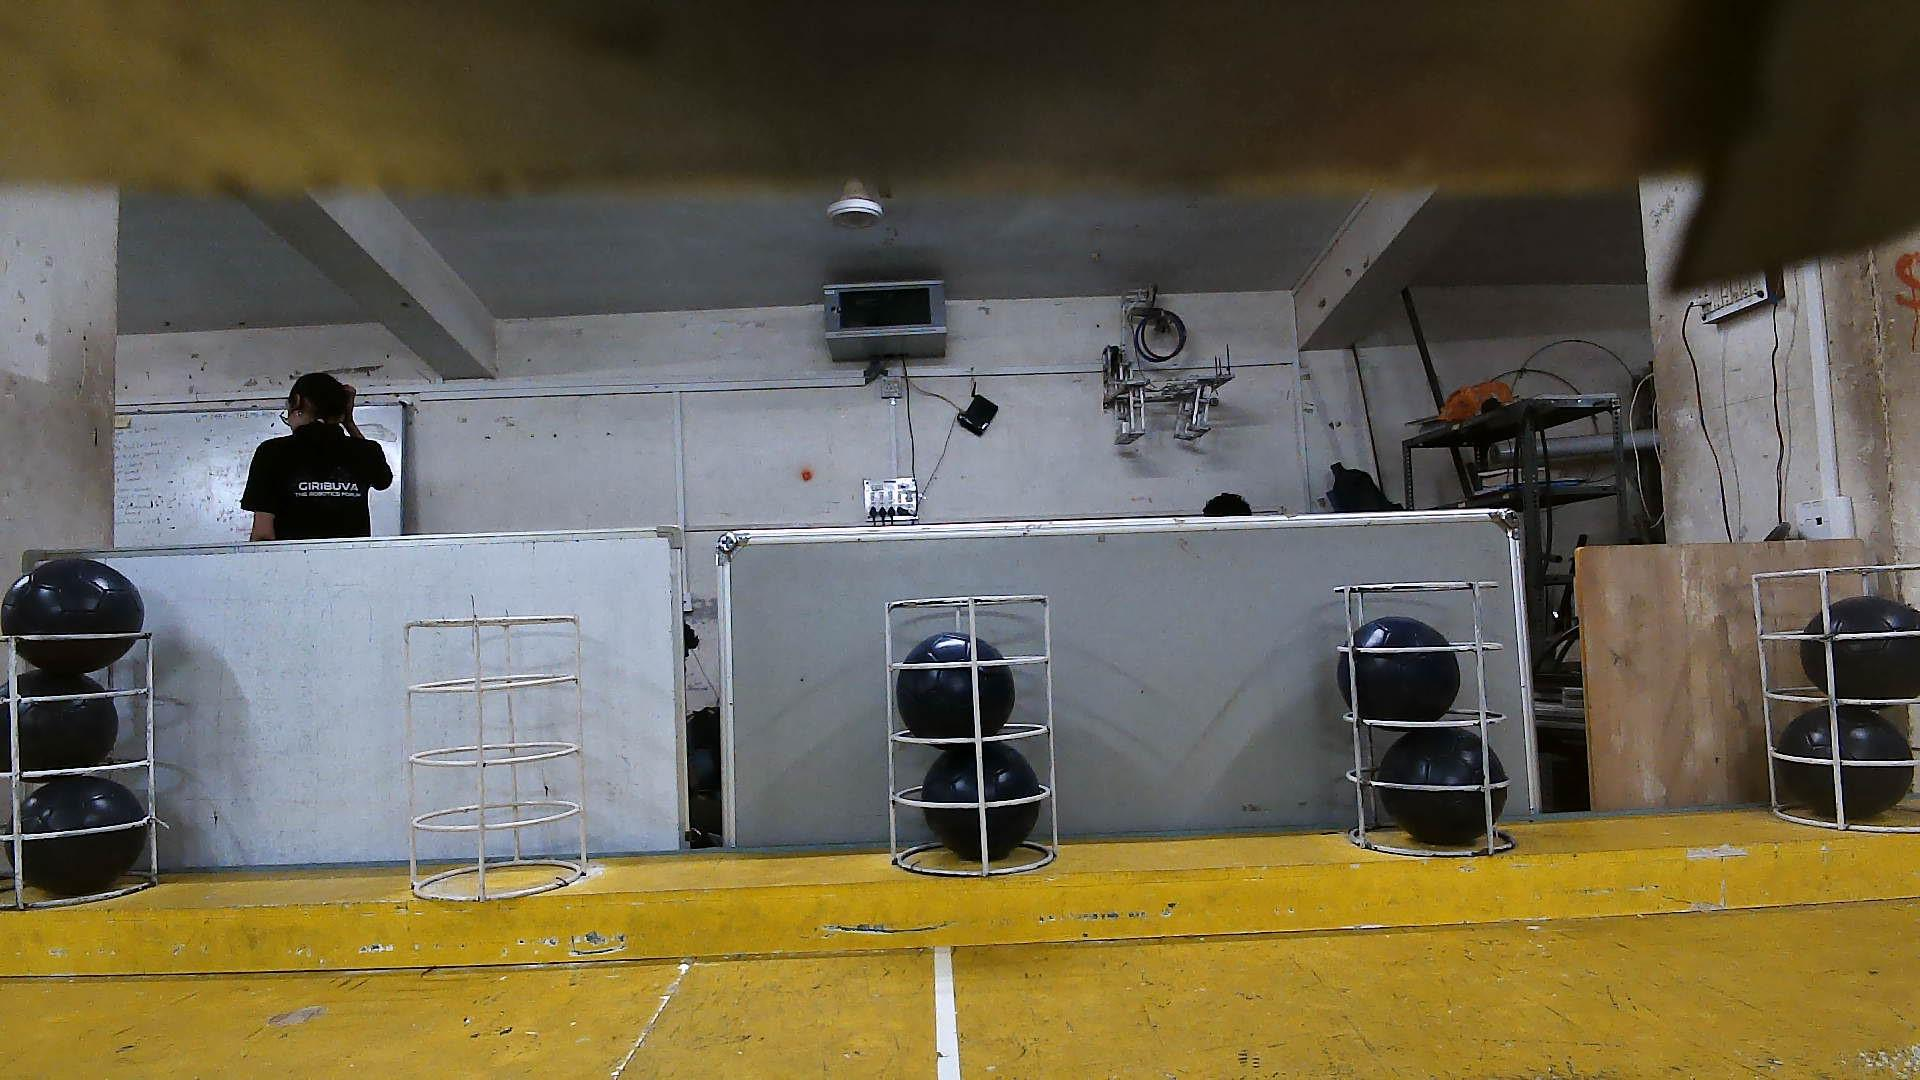dhoka: (0, 555, 144, 674), (5, 777, 146, 895), (1378, 728, 1509, 844), (1337, 616, 1462, 732), (897, 630, 1015, 749), (0, 669, 119, 783), (924, 744, 1040, 858), (1788, 705, 1905, 818), (1809, 601, 1916, 712)
